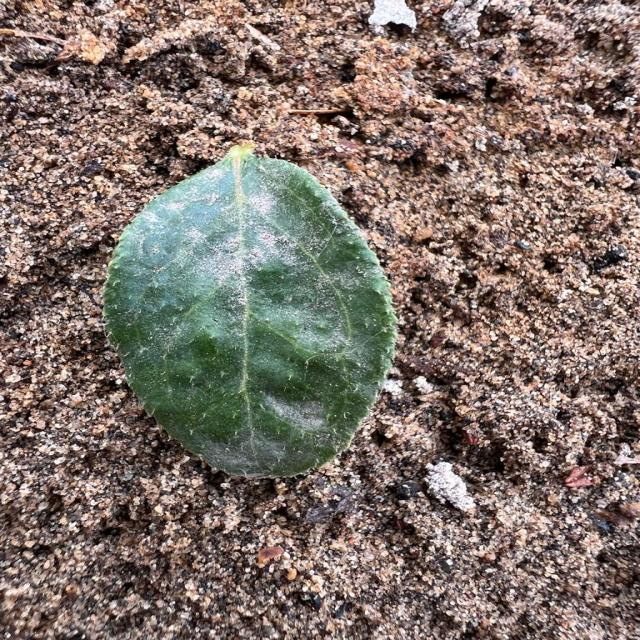Hojas con oidiosis: (98, 142, 400, 480)
